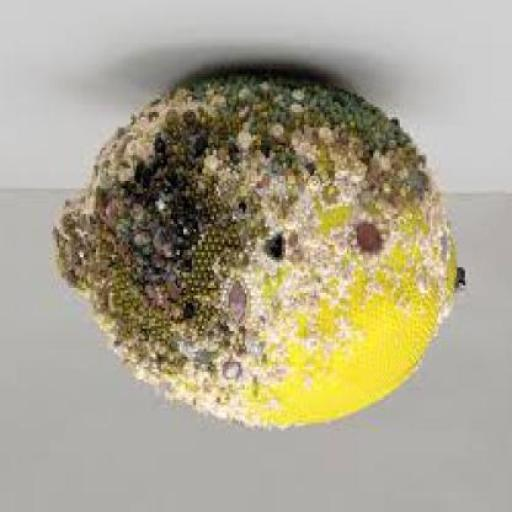biodegradable: (51, 74, 463, 436)
